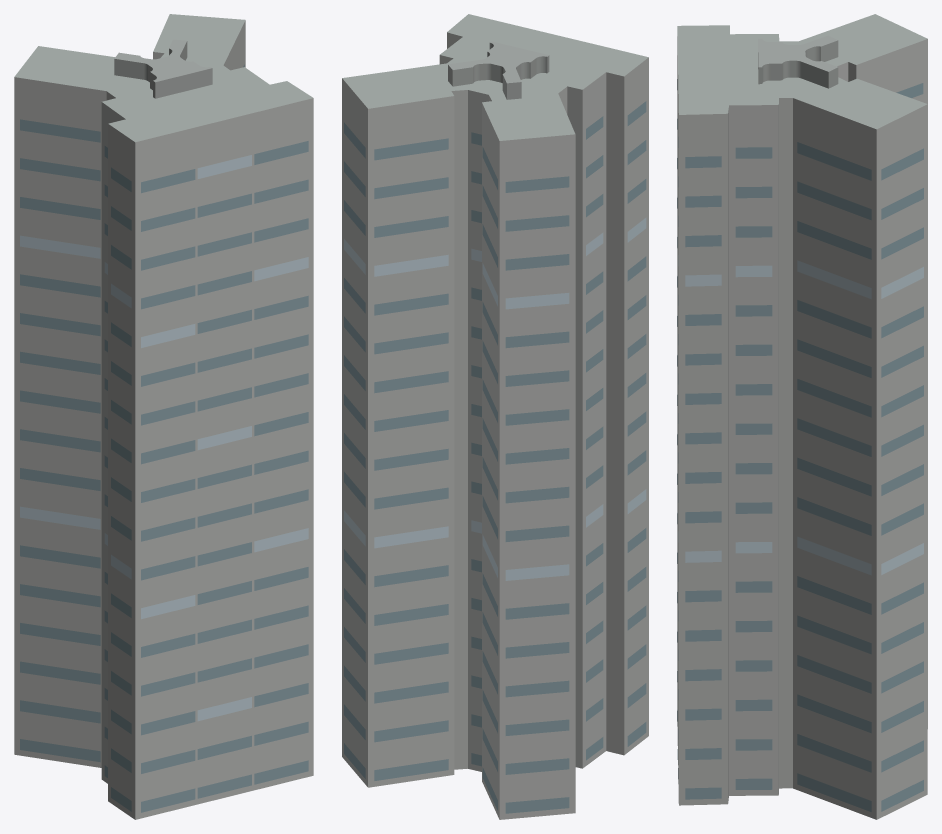
File: fallback-banpo-riche-105.glb
3 views of the same model, side by side, from view 1: azimuth 30°, elevation 25°; view 2: azimuth 150°, elevation 25°; view 3: azimuth 270°, elevation 25° (orthographic).
Parts seen in each view (by area): view 1: fallback-banpo-riche-105; view 2: fallback-banpo-riche-105; view 3: fallback-banpo-riche-105.
Part boxes in pixels (x1=…): fallback-banpo-riche-105: x1=14, y1=14, x2=313, y2=819; fallback-banpo-riche-105: x1=342, y1=14, x2=648, y2=819; fallback-banpo-riche-105: x1=677, y1=14, x2=927, y2=819.
Bounding box in the file's own units: 35.36 × 101 × 32.48.
